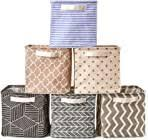cube: (3, 85, 51, 140), (23, 45, 74, 95), (73, 46, 123, 94), (48, 94, 99, 140)
